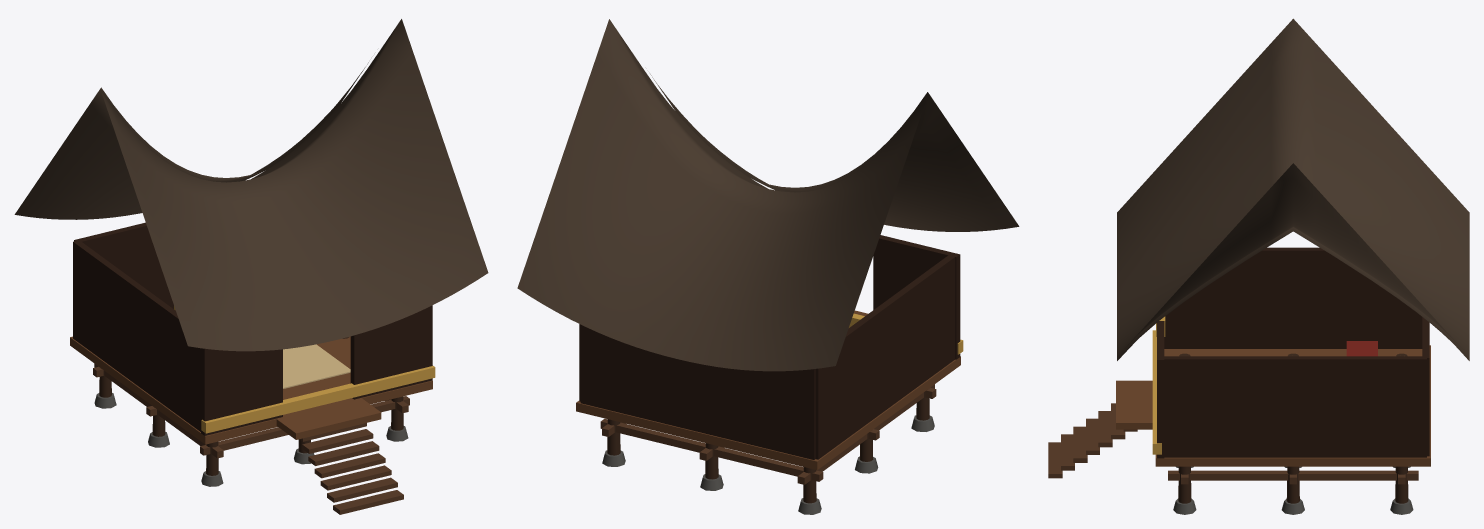
Rendered from siwaluh-jabu-karo.glb.
The picture shows the model from 3 angles, left to right: view 1: azimuth 30°, elevation 25°; view 2: azimuth 150°, elevation 25°; view 3: azimuth 270°, elevation 25°; orthographic projection. The views are drawn at different scales.
Parts seen in each view (by area): view 1: ROOF_SYSTEM, WALL_SYSTEM, ENTRANCE_STAIRS, FLOOR_SYSTEM, STILT_COLUMNS, CEREMONIAL_HALL_MAT, FOUNDATION_STONES; view 2: ROOF_SYSTEM, WALL_SYSTEM, STILT_COLUMNS, FLOOR_SYSTEM, FOUNDATION_STONES; view 3: ROOF_SYSTEM, WALL_SYSTEM, FLOOR_SYSTEM, ENTRANCE_STAIRS, STILT_COLUMNS, FOUNDATION_STONES, BILIK_PLATFORM_L.
Boxes of the visible parts, x1,y1,x2,y2 form: ROOF_SYSTEM: (14, 19, 488, 351); WALL_SYSTEM: (73, 222, 435, 435); ENTRANCE_STAIRS: (276, 398, 403, 514); FLOOR_SYSTEM: (70, 336, 432, 444); STILT_COLUMNS: (93, 337, 409, 475); CEREMONIAL_HALL_MAT: (283, 344, 350, 388); FOUNDATION_STONES: (94, 393, 408, 486); ROOF_SYSTEM: (517, 19, 1019, 371); WALL_SYSTEM: (579, 235, 963, 459); STILT_COLUMNS: (600, 384, 936, 503); FLOOR_SYSTEM: (576, 356, 960, 469); FOUNDATION_STONES: (602, 415, 934, 514); ROOF_SYSTEM: (1117, 18, 1469, 360); WALL_SYSTEM: (1152, 247, 1429, 458); FLOOR_SYSTEM: (1155, 345, 1430, 466); ENTRANCE_STAIRS: (1048, 380, 1152, 478); STILT_COLUMNS: (1168, 353, 1418, 503); FOUNDATION_STONES: (1173, 466, 1413, 514); BILIK_PLATFORM_L: (1346, 341, 1377, 356).
Size of what is drawn, in the model's own units: 8.45 by 9.94 by 10.09.
